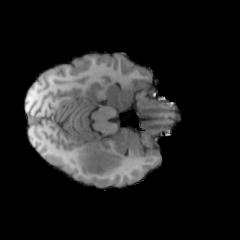glioma: (77, 142, 123, 174)
